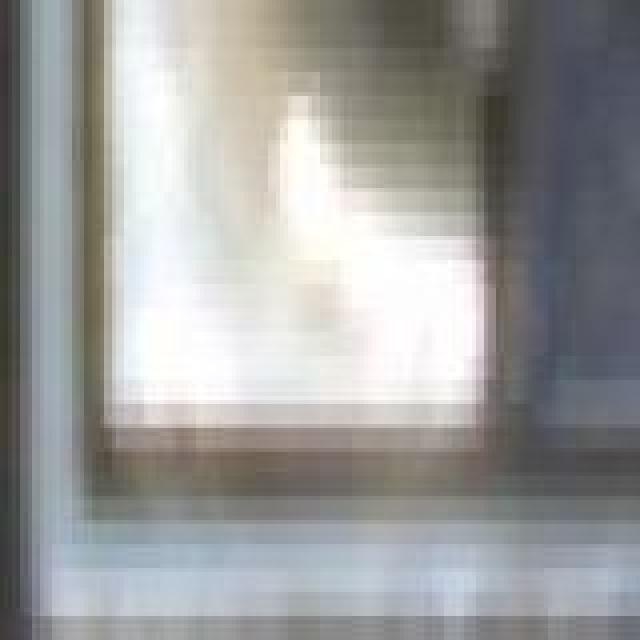diode: (388, 0, 640, 640)
